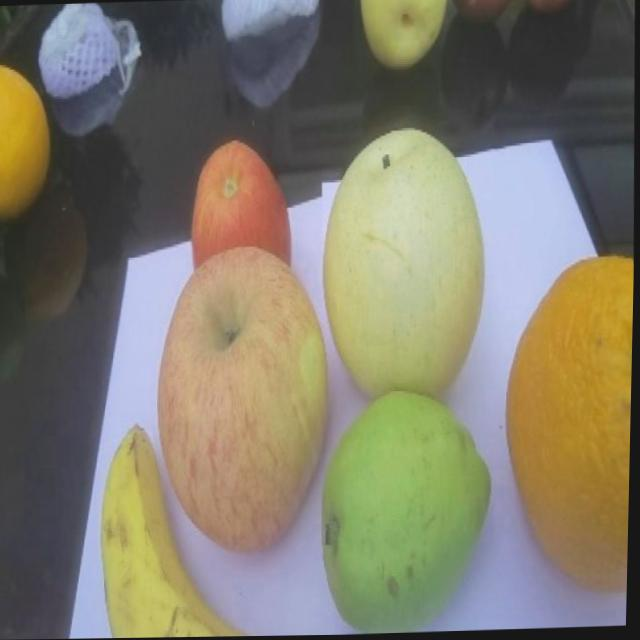Apple: (152, 245, 335, 558), (188, 139, 295, 273)
Banana: (97, 422, 254, 639)
Orange: (500, 256, 635, 599)
